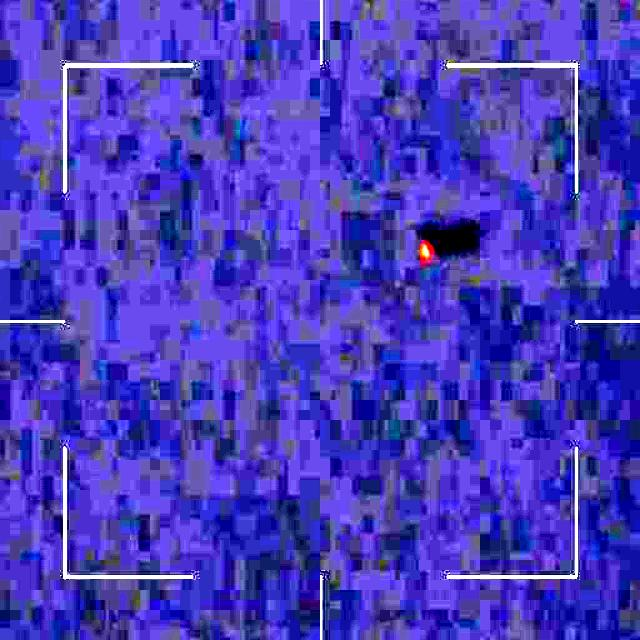bird: (411, 229, 441, 272)
